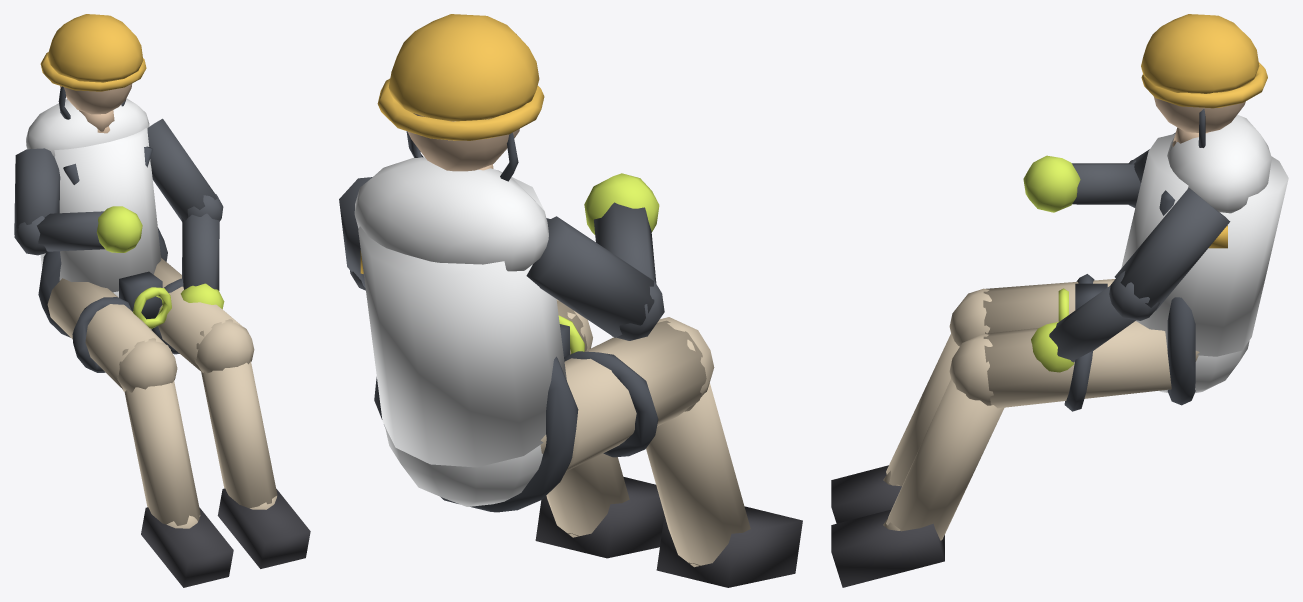
Rendered from operario.glb.
3 renders of one model, left to right at view 1: azimuth 30°, elevation 25°; view 2: azimuth 150°, elevation 25°; view 3: azimuth 270°, elevation 25°, orthographic. The views are drawn at different scales.
Visible parts, largest first — view 1: Operario; view 2: Operario; view 3: Operario.
Boxes of the visible parts, bbox=[...] form: Operario: bbox=[14, 14, 310, 587]; Operario: bbox=[339, 14, 802, 587]; Operario: bbox=[831, 14, 1288, 587].
Bounding box in the file's own units: 0.5949 × 1.27 × 0.9896.
